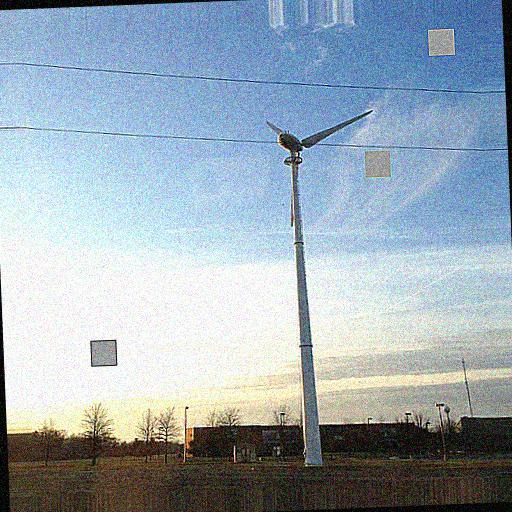wind turbine: (263, 106, 375, 469)
